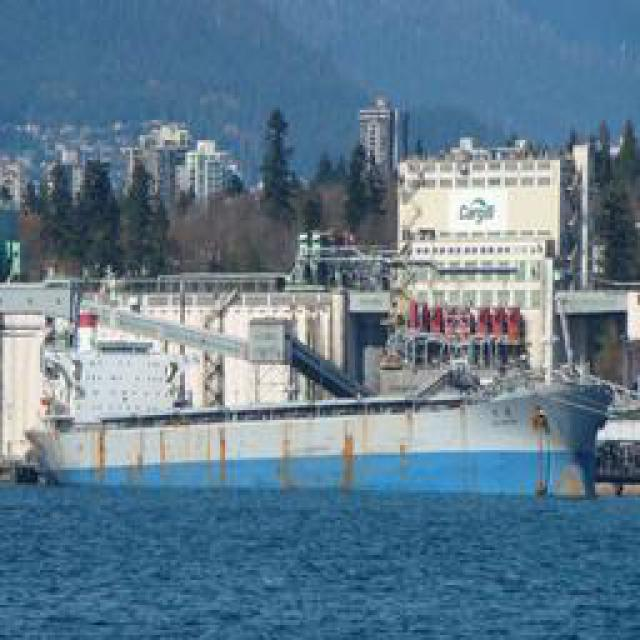Ship: (22, 341, 632, 499)
